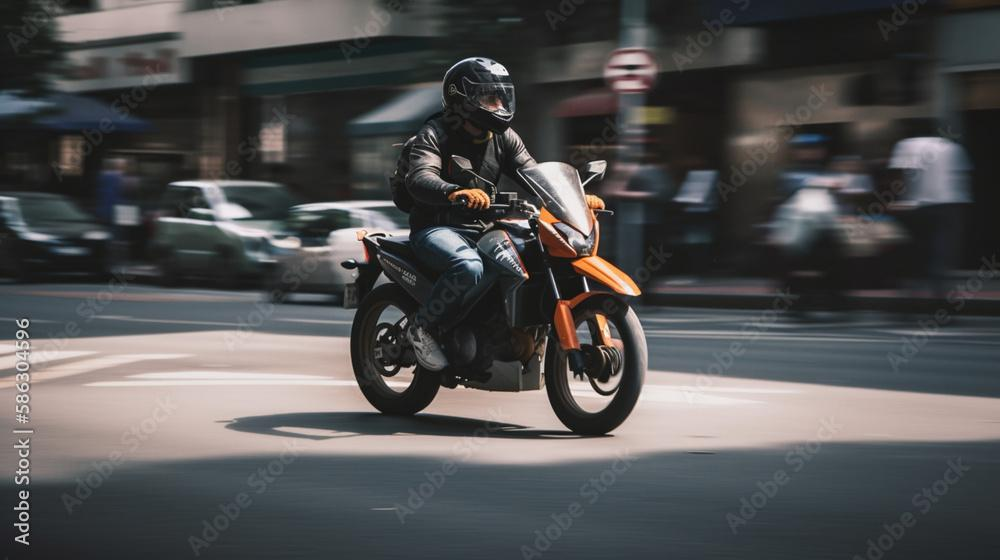helmet: (441, 56, 517, 136)
